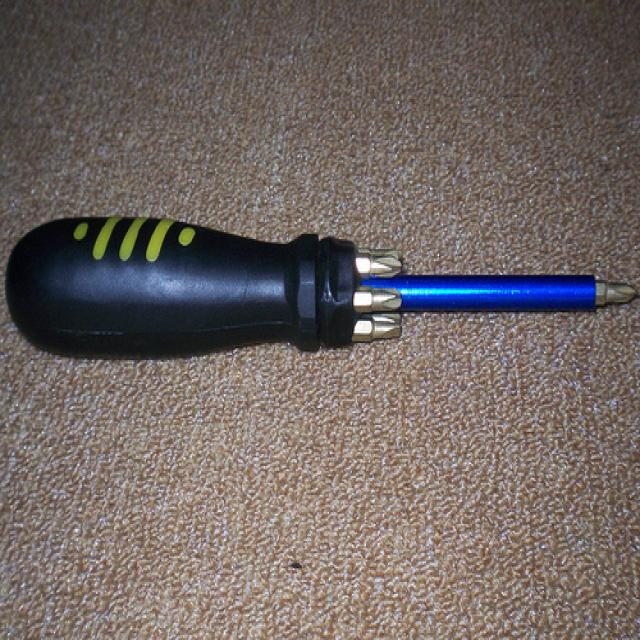screwdriver: (0, 206, 640, 380)
